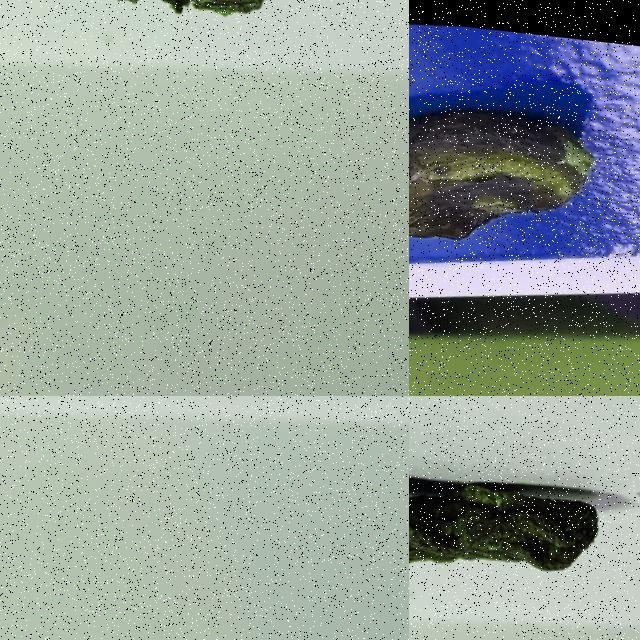Flat_cocoabeans: (409, 18, 639, 305), (409, 398, 639, 639), (0, 0, 334, 82), (0, 396, 408, 451)
